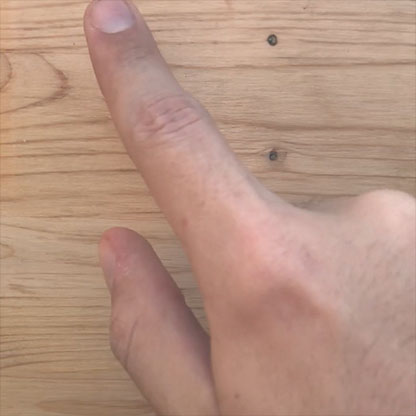fingertip: (69, 1, 158, 39)
